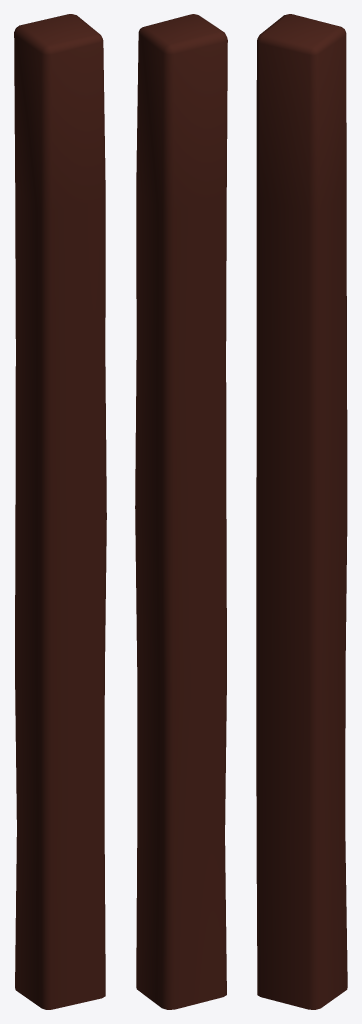
The model's file is DoorFrameColumn_mdl.fbx.
The picture shows the model from 3 angles, left to right: view 1: azimuth 30°, elevation 25°; view 2: azimuth 210°, elevation 25°; view 3: azimuth 330°, elevation 25°; orthographic projection.
Parts seen in each view (by area): view 1: Cube.097; view 2: Cube.097; view 3: Cube.097.
Part boxes in pixels (bbox=[...]): Cube.097: bbox=[14, 14, 106, 1009]; Cube.097: bbox=[135, 14, 227, 1009]; Cube.097: bbox=[256, 14, 347, 1009].
Size of the model in its own units: 17.85 by 250 by 16.58.
